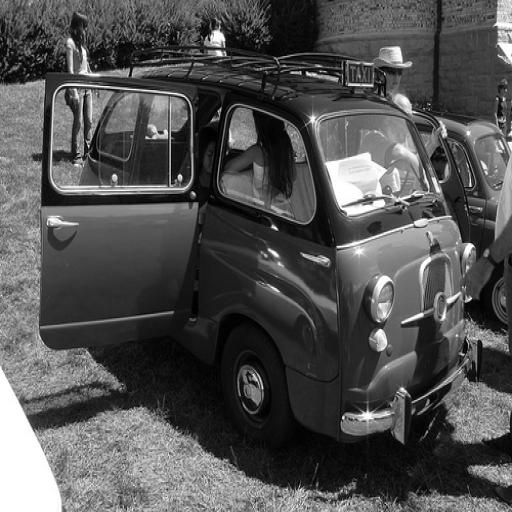car: (38, 40, 482, 446), (408, 105, 511, 331)
person: (460, 153, 511, 508), (225, 108, 297, 222), (358, 93, 448, 180), (64, 12, 94, 164), (370, 45, 414, 117), (196, 128, 219, 243), (202, 16, 226, 58), (493, 75, 508, 135)
